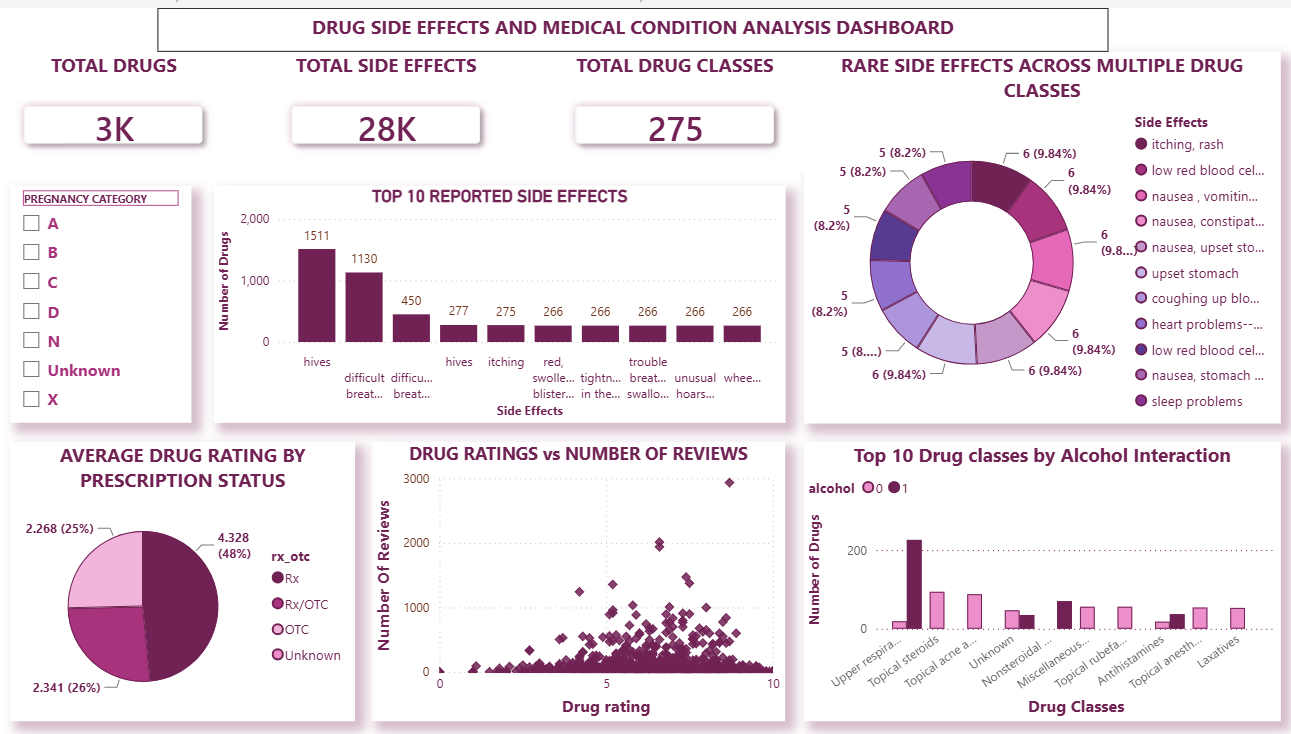

Layout of this report page (visuals, bound fields, positions):
{"tool":"powerbi","page":{"name":"Page 1","canvas":[1280,720],"ordinal":0},"visuals":[{"type":"clusteredColumnChart","title":"TOP 10 REPORTED SIDE EFFECTS","fields":{"Category":["Drug_side_effects_and_medical_condition_cleaned (2).side_effects"],"Y":["CountNonNull(Drug_side_effects_and_medical_condition_cleaned (2).drug_name)"]},"box":[215.5,175.4,564.9,234.8],"z":0},{"type":"scatterChart","title":"DRUG RATINGS vs NUMBER OF REVIEWS","fields":{"Y":["Drug_side_effects_and_medical_condition_cleaned.no_of_reviews"],"X":["Drug_side_effects_and_medical_condition_cleaned.rating"]},"box":[371.5,428.1,408.8,276.2],"z":1000},{"type":"pieChart","title":"AVERAGE DRUG RATING BY PRESCRIPTION STATUS","fields":{"Category":["Drug_side_effects_and_medical_condition_cleaned.rx_otc"],"Y":["Avg(Drug_side_effects_and_medical_condition_cleaned.rating)"]},"box":[15.2,428.1,341.1,276.2],"z":2000},{"type":"donutChart","title":"RARE SIDE EFFECTS ACROSS MULTIPLE DRUG CLASSES","fields":{"Category":["Drug_side_effects_and_medical_condition_cleaned (2).side_effects"],"Y":["Drug_side_effects_and_medical_condition_cleaned (2).Drug_class_count"]},"box":[798.3,42.8,471,367.4],"z":3000},{"type":"clusteredColumnChart","title":"Top 10 Drug classes by Alcohol Interaction","fields":{"Category":["Drug_side_effects_and_medical_condition_cleaned.drug_classes"],"Y":["CountNonNull(Drug_side_effects_and_medical_condition_cleaned.drug_name)"],"Series":["Drug_side_effects_and_medical_condition_cleaned.alcohol"]},"box":[798.3,428.1,471,276.2],"z":4000},{"type":"cardVisual","title":"TOTAL SIDE EFFECTS","fields":{"Data":["Drug_side_effects_and_medical_condition_cleaned (2).Side_effects_counts"]},"box":[263.8,42.8,244.5,120.2],"z":5000},{"type":"cardVisual","title":"TOTAL DRUG CLASSES","fields":{"Data":["Drug_side_effects_and_medical_condition_cleaned.Drug_classes_count"]},"box":[544.2,42.8,254.1,120.2],"z":6000},{"type":"slicer","fields":{"Values":["Drug_side_effects_and_medical_condition_cleaned.pregnancy_category"]},"box":[15.2,175.4,179.5,234.8],"z":7000},{"type":"cardVisual","title":"TOTAL DRUGS","fields":{"Data":["Drug_side_effects_and_medical_condition_cleaned.Drug_count"]},"box":[0,42.8,234.8,120.2],"z":8000},{"type":"textbox","box":[160.2,0,939.1,42.8],"z":9000}]}

Visuals, with their boxes in screenshot pixels (x1, y1, x2, y2), scaled from the page's 1280x720 canvas onto the 1291x734 screenshot:
"TOP 10 REPORTED SIDE EFFECTS" clusteredColumnChart: bbox=[217, 179, 787, 418]
"DRUG RATINGS vs NUMBER OF REVIEWS" scatterChart: bbox=[375, 436, 787, 718]
"AVERAGE DRUG RATING BY PRESCRIPTION STATUS" pieChart: bbox=[15, 436, 359, 718]
"RARE SIDE EFFECTS ACROSS MULTIPLE DRUG CLASSES" donutChart: bbox=[805, 44, 1280, 418]
"Top 10 Drug classes by Alcohol Interaction" clusteredColumnChart: bbox=[805, 436, 1280, 718]
"TOTAL SIDE EFFECTS" cardVisual: bbox=[266, 44, 513, 166]
"TOTAL DRUG CLASSES" cardVisual: bbox=[549, 44, 805, 166]
slicer - Drug_side_effects_and_medical_condition_cleaned.pregnancy_category: bbox=[15, 179, 196, 418]
"TOTAL DRUGS" cardVisual: bbox=[0, 44, 237, 166]
textbox: bbox=[162, 0, 1109, 44]
